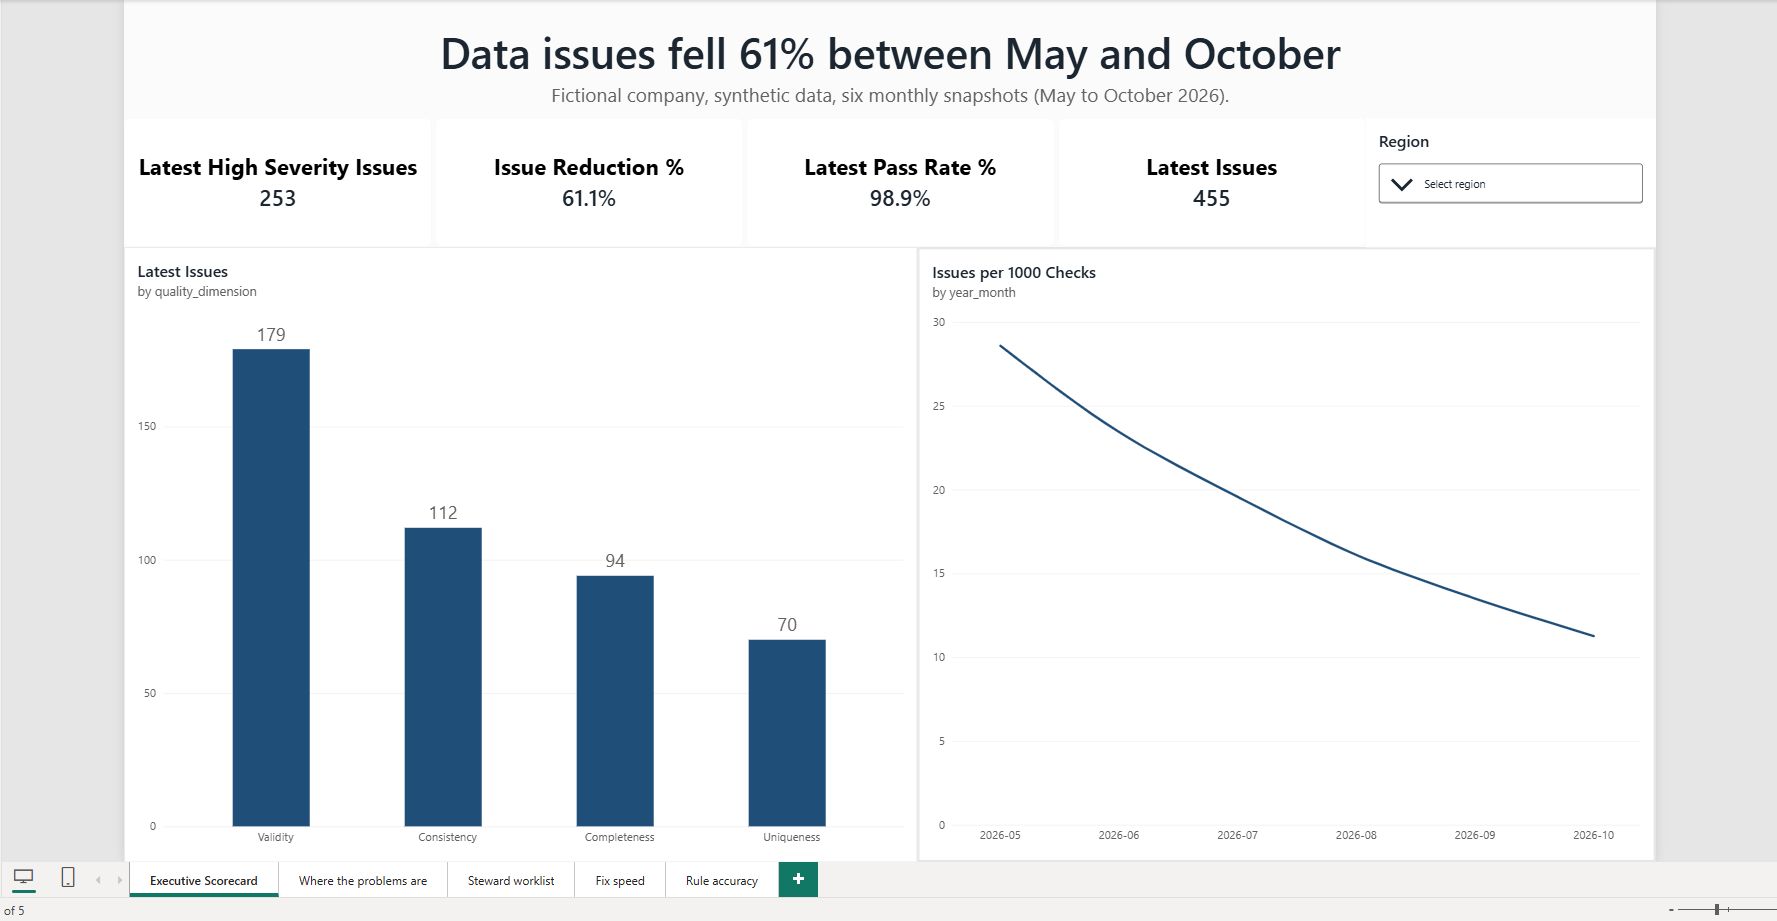

Layout of this report page (visuals, bound fields, positions):
{"tool":"powerbi","page":{"name":"Executive Scorecard","canvas":[1920,1080],"ordinal":0},"visuals":[{"type":"lineChart","fields":{"Category":["dim_date.year_month"],"Y":["_Measures.Issues per 1000 Checks"]},"box":[993.6,309.7,926.4,770.9],"z":0},{"type":"cardVisual","fields":{"Data":["_Measures.Latest High Severity Issues","_Measures.Issue Reduction %","_Measures.Latest Pass Rate %","_Measures.Latest Issues"]},"box":[0,148.3,1556.7,161.7],"z":2000},{"type":"columnChart","fields":{"Category":["dim_rule.quality_dimension"],"Y":["_Measures.Latest Issues"]},"box":[0,309.7,993.6,770.9],"z":5000},{"type":"textbox","title":"Data issues fell 61% between May and October","box":[363.3,28.3,1193.3,120],"z":6000},{"type":"listSlicer","title":"Region","fields":{"Values":["dq_worklist.region"]},"box":[1556.7,148.3,363.3,161.7],"z":7000}]}

Visuals, with their boxes on the page's 1920x1080 design canvas (x1, y1, x2, y2). These are canvas units, not pixel positions in the 1777x921 screenshot, which may show the page scaled, cropped or inside an application window:
lineChart - dim_date.year_month x _Measures.Issues per 1000 Checks: 994, 310, 1920, 1081
cardVisual - _Measures.Latest High Severity Issues x _Measures.Issue Reduction %: 0, 148, 1557, 310
columnChart - dim_rule.quality_dimension x _Measures.Latest Issues: 0, 310, 994, 1081
"Data issues fell 61% between May and October" textbox: 363, 28, 1557, 148
"Region" listSlicer: 1557, 148, 1920, 310
